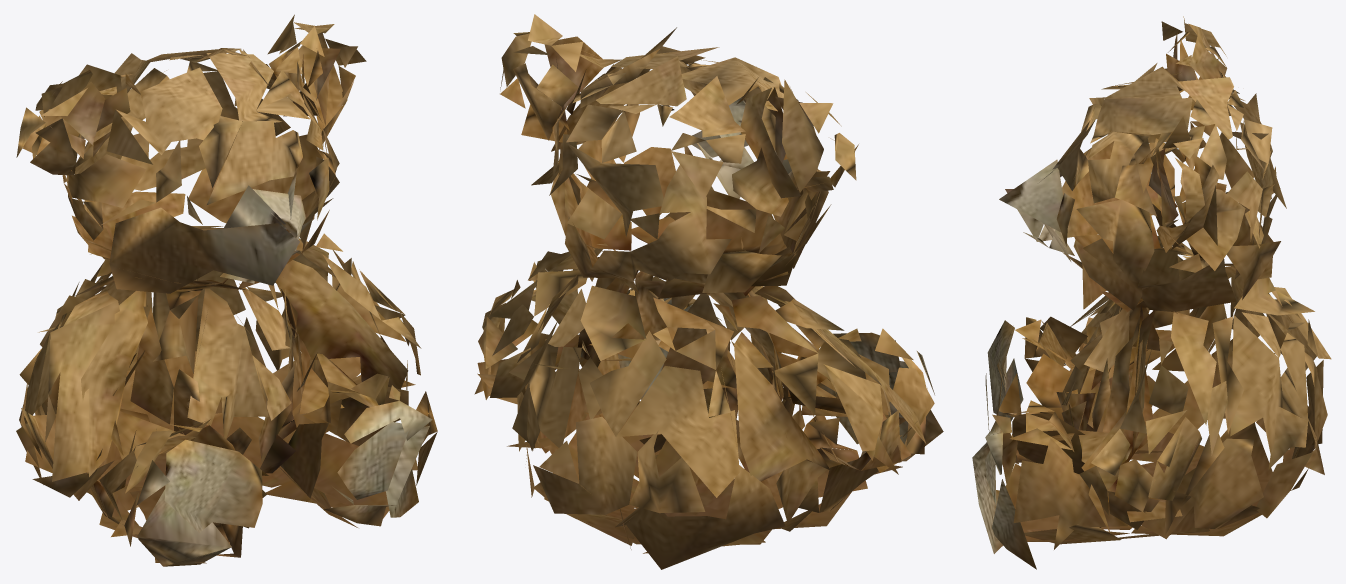
Rendered from kinder_teddy_lo.glb.
The picture shows the model from 3 angles, left to right: view 1: azimuth 30°, elevation 25°; view 2: azimuth 150°, elevation 25°; view 3: azimuth 270°, elevation 25°; orthographic projection. The views are drawn at different scales.
Visible parts, largest first — view 1: Prop; view 2: Prop; view 3: Prop.
Boxes of the visible parts, left/top/right/bottom form: Prop: left=16, top=14, right=437, bottom=566; Prop: left=474, top=14, right=943, bottom=569; Prop: left=972, top=16, right=1331, bottom=569.
Size of the model in its own units: 0.9494 by 1.02 by 0.7542.
Materials: 1 (1 with a texture image).
